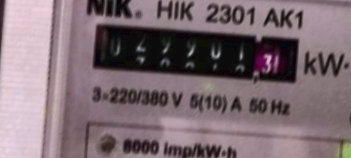0: (206, 34, 223, 60), (105, 32, 121, 56)
1: (233, 36, 247, 61)
2: (131, 29, 148, 53)
3: (257, 50, 274, 74)
9: (182, 34, 196, 58), (157, 31, 171, 53)
screen: (82, 14, 307, 92)
